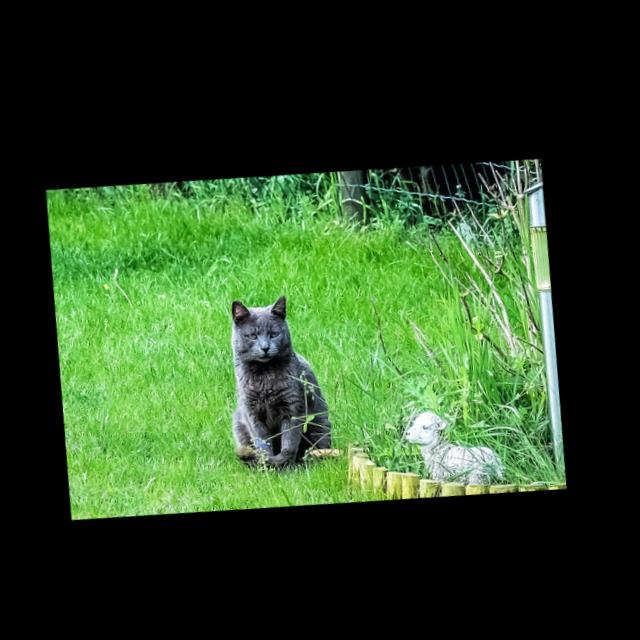animals: (218, 285, 343, 472)
